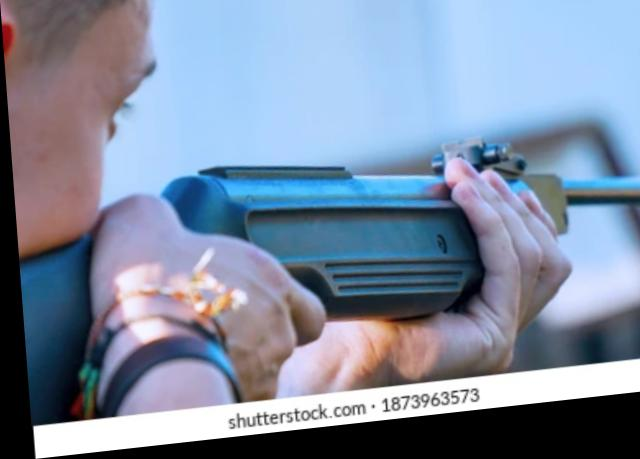other: (0, 0, 247, 421)
